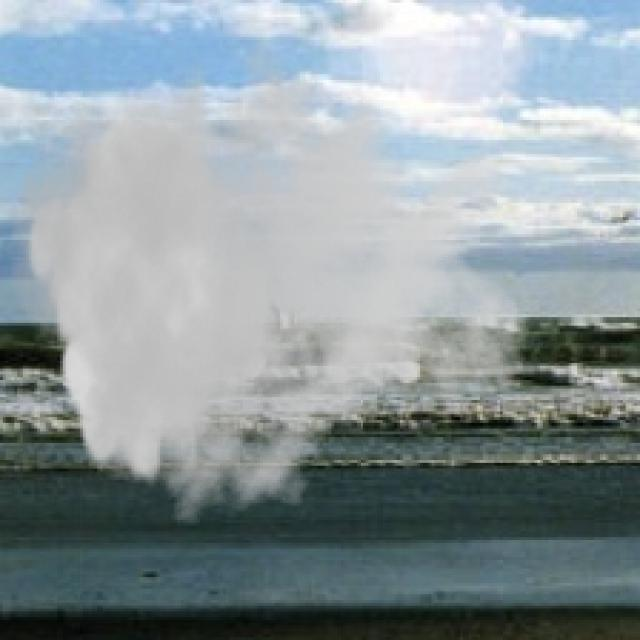Smoke: (9, 8, 532, 534)
